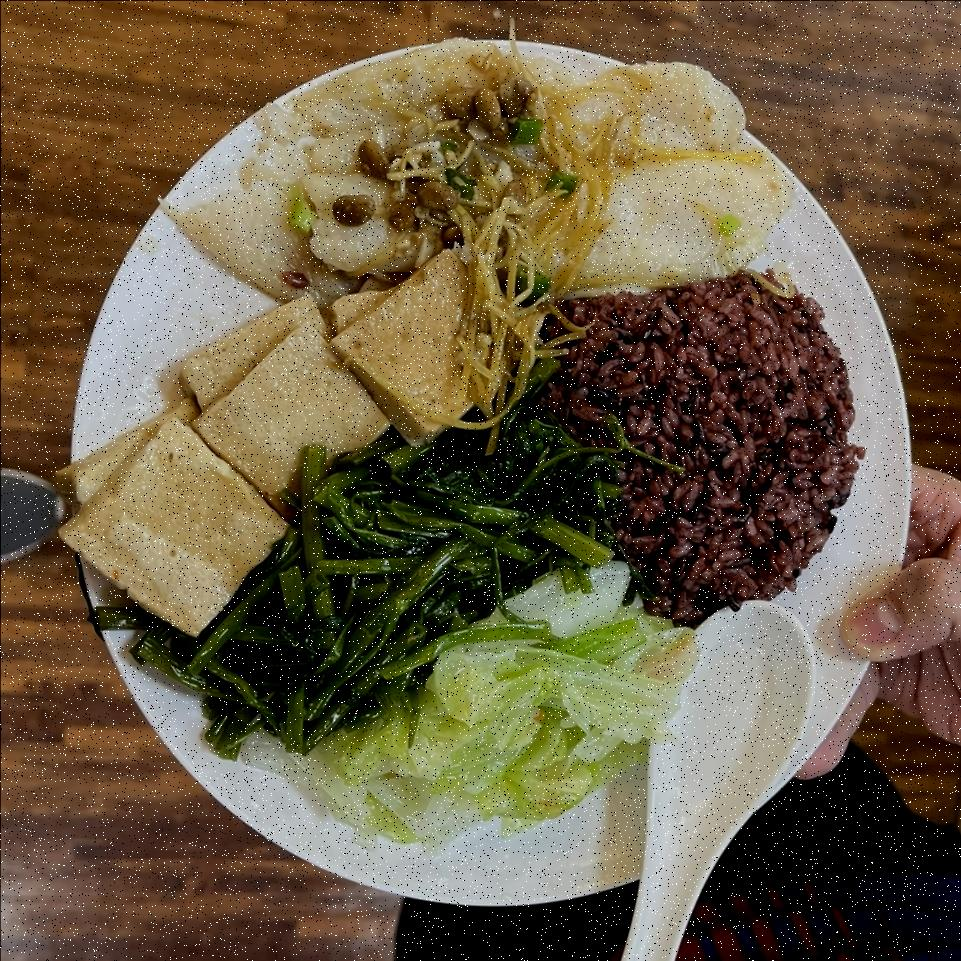plate: (60, 38, 923, 922)
purple rice: (550, 264, 862, 624)
side dish: (126, 400, 608, 747), (52, 260, 488, 604), (288, 578, 688, 844)
steamed fish fillet: (152, 55, 799, 302)
